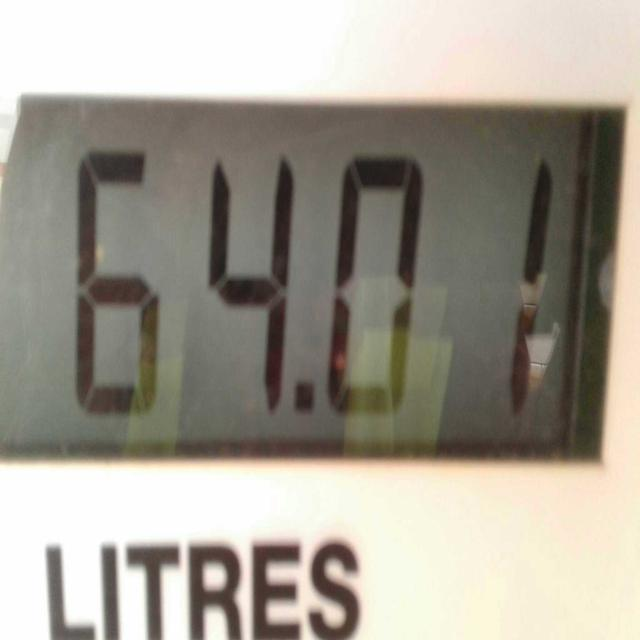.: (286, 361, 323, 437)
0: (319, 150, 435, 423)
1: (484, 155, 562, 421)
4: (198, 141, 302, 421)
6: (59, 142, 199, 424)
